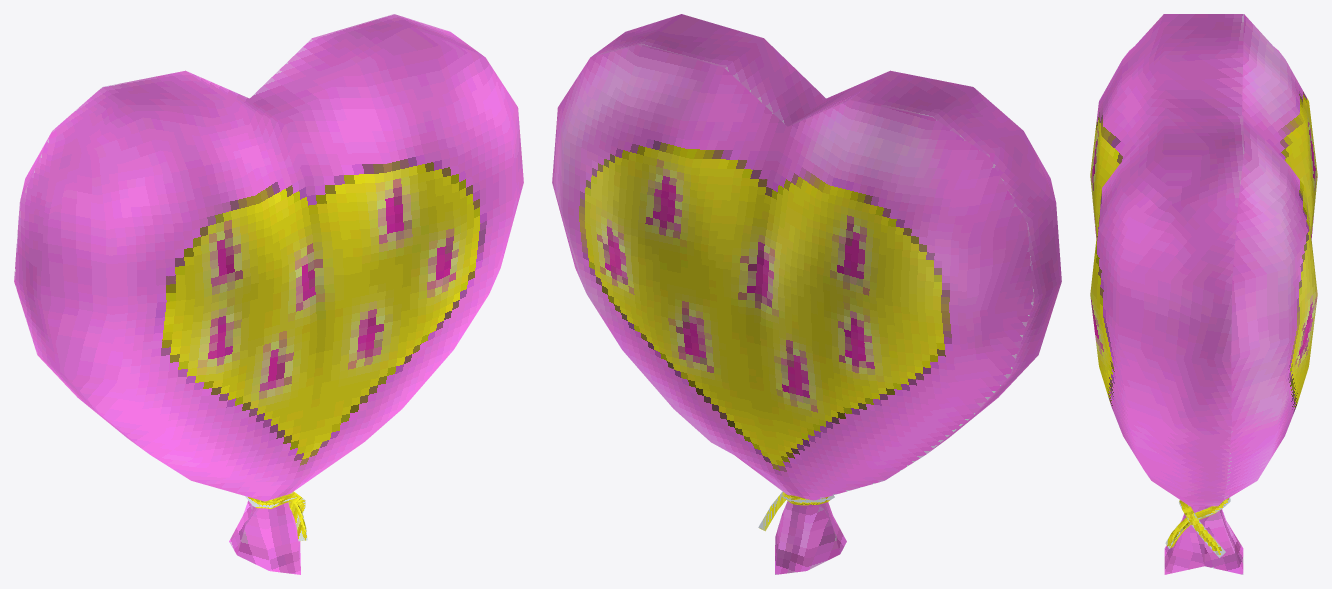
File: ps2_save-icons_girlzone.glb
3 renders of one model, left to right at view 1: azimuth 30°, elevation 25°; view 2: azimuth 150°, elevation 25°; view 3: azimuth 270°, elevation 25°, orthographic. The views are drawn at different scales.
Visible parts, largest first — view 1: icon.ico; view 2: icon.ico; view 3: icon.ico.
Boxes of the visible parts, <box> form: icon.ico: <box>14,14,523,574</box>; icon.ico: <box>552,14,1061,574</box>; icon.ico: <box>1090,14,1317,574</box>.
Size of the model in its own units: 4.95 by 4.89 by 2.07.
1 material, 1 textured.
